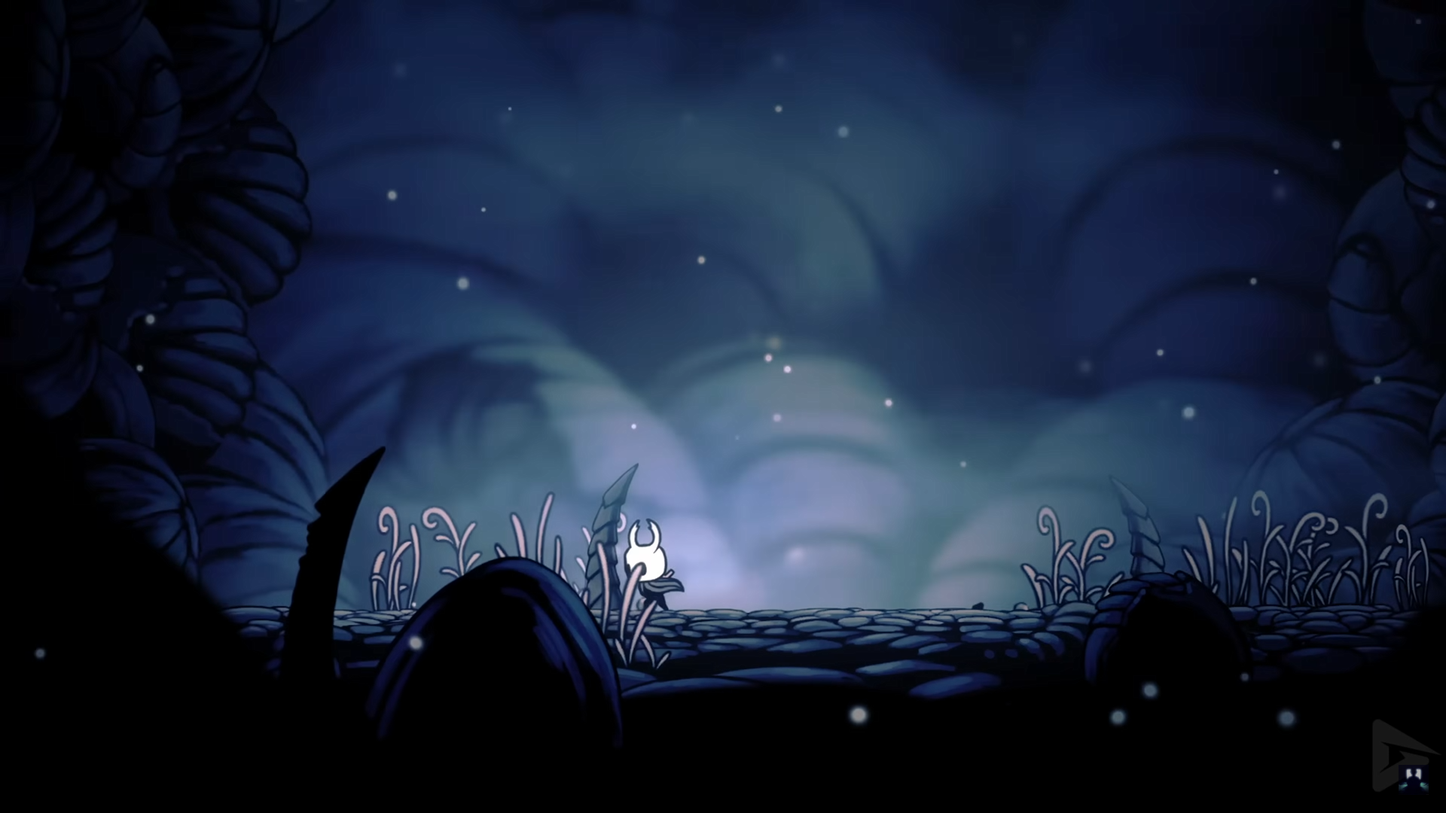HK: (617, 514, 679, 614)
